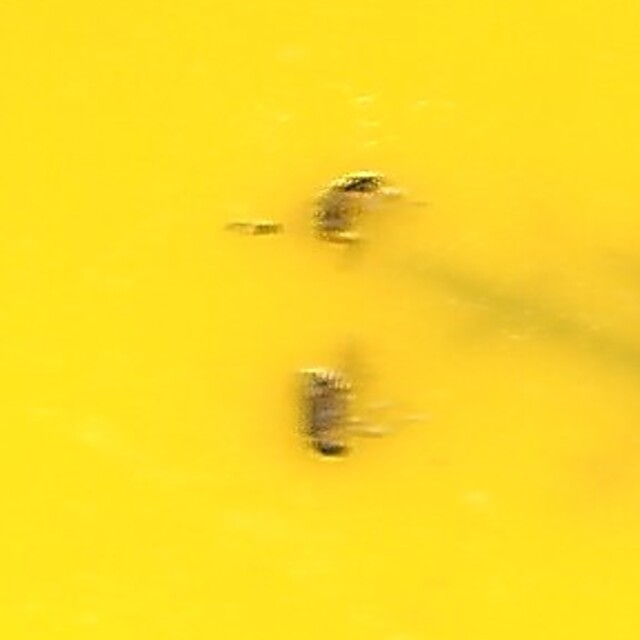Brachycera: (222, 175, 418, 266), (291, 341, 413, 465)
